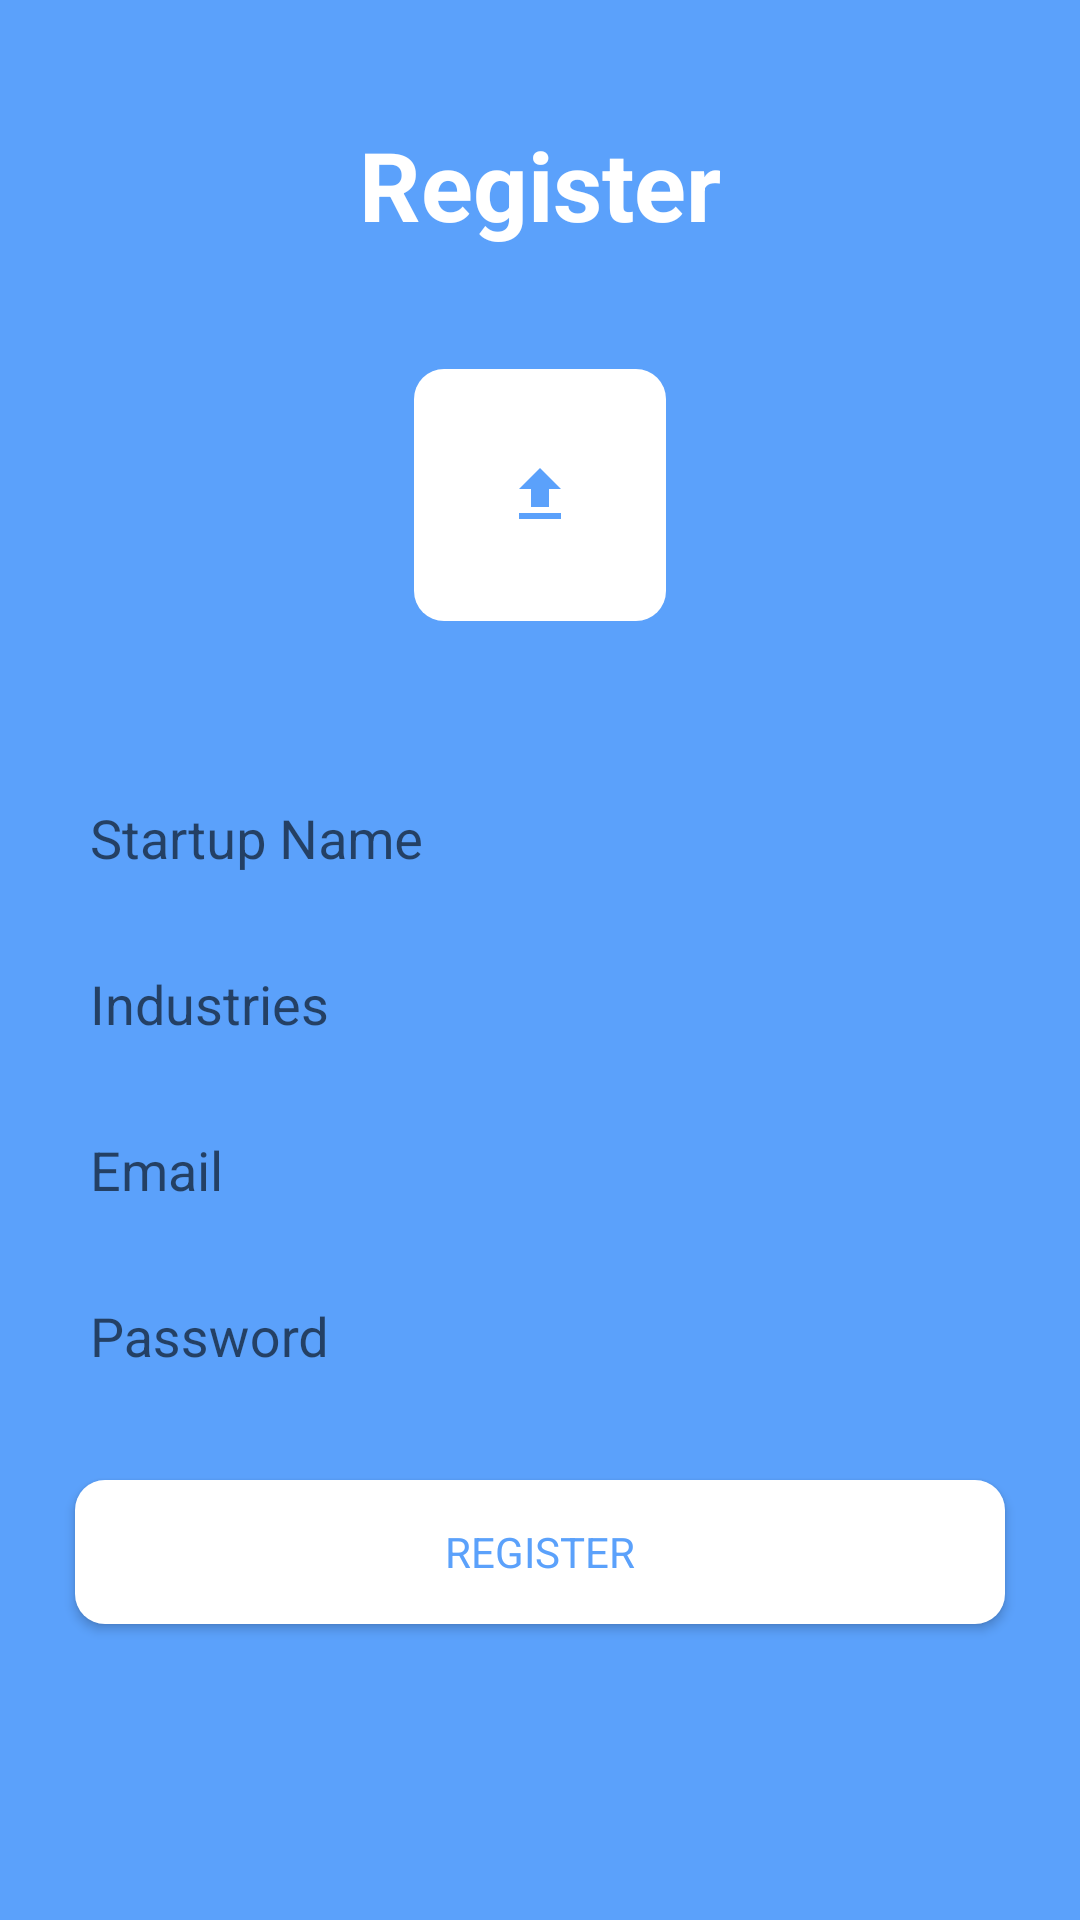

Icons on this 1080x1920 Android screen, each with the point to tap as [x,y]:
file upload: [540,495]
